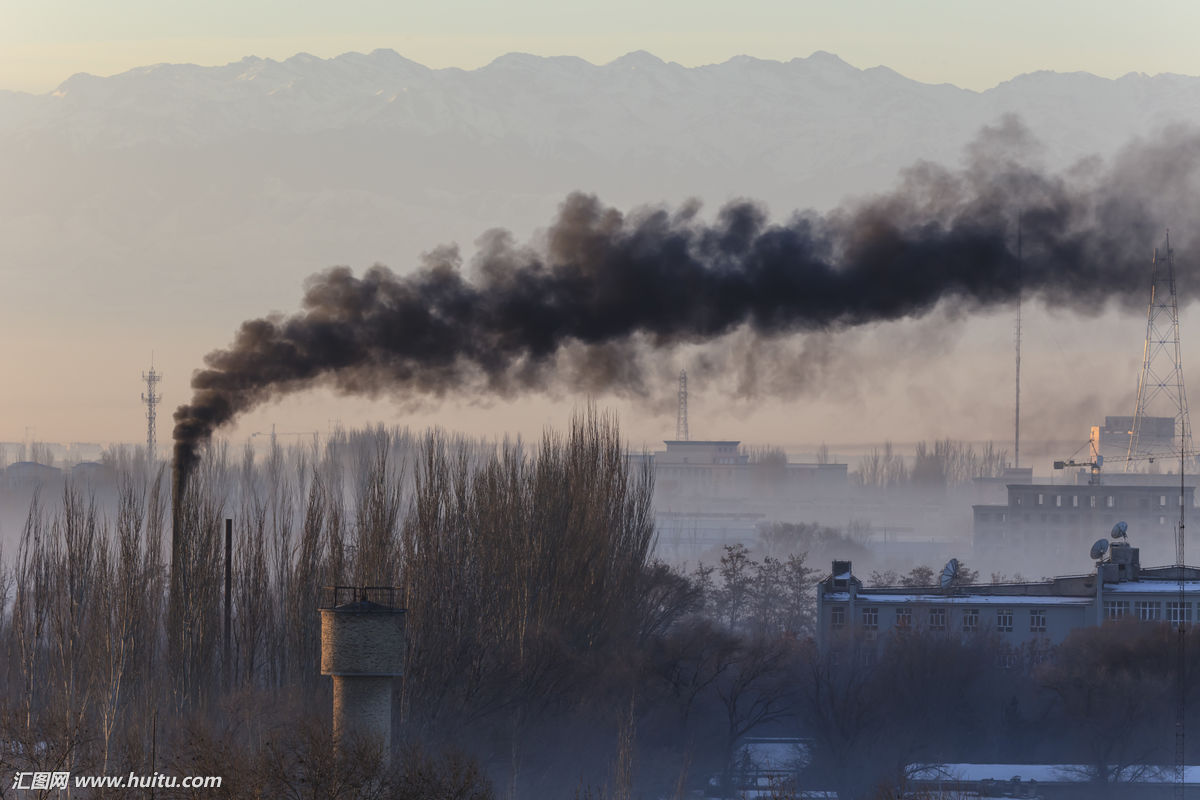dust: (150, 273, 478, 460)
